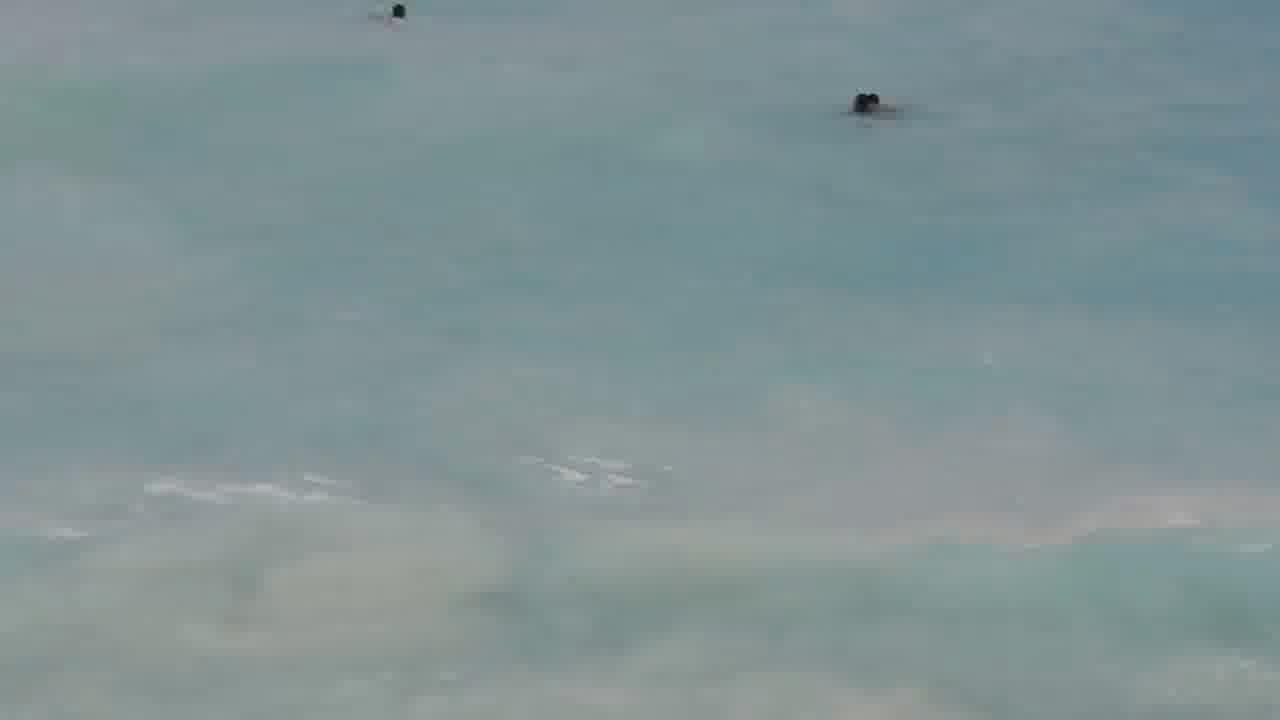swimmer: (839, 80, 901, 120), (370, 3, 417, 21)
